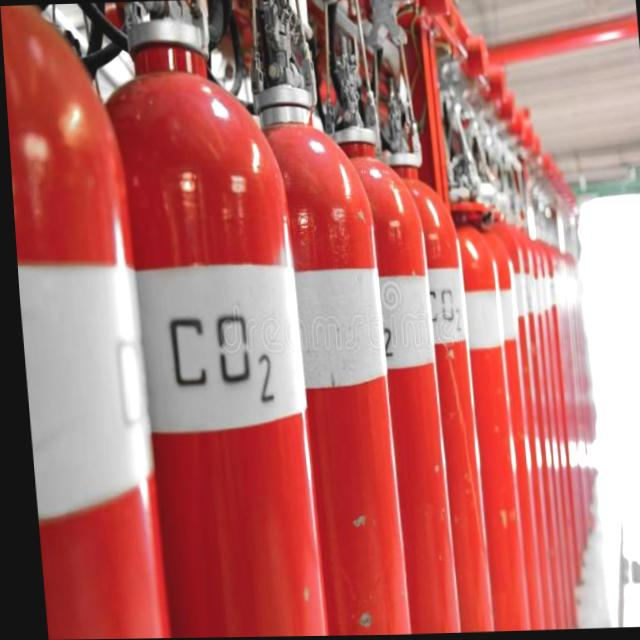FireExtinguisher: (66, 0, 323, 639), (183, 0, 409, 638), (272, 67, 457, 636), (0, 2, 161, 640), (326, 108, 492, 635), (383, 136, 530, 634)
